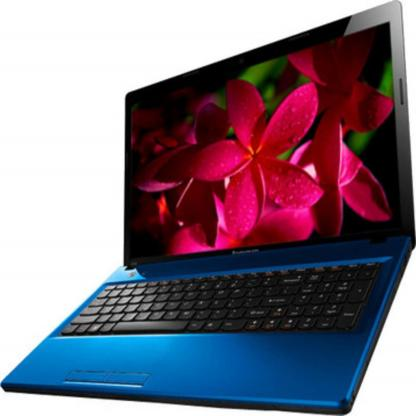board: (0, 0, 416, 404)
